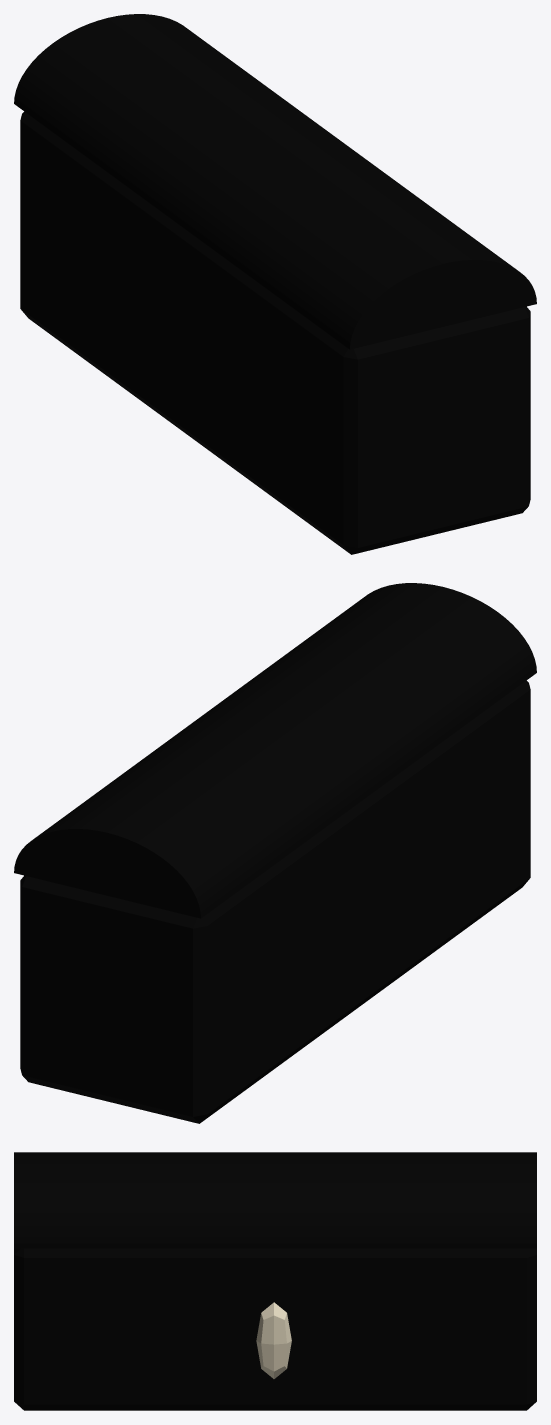
The model's file is blackbox.glb.
3 renders of one model, top to bottom at view 1: azimuth 30°, elevation 25°; view 2: azimuth 150°, elevation 25°; view 3: azimuth 270°, elevation 25°, orthographic. The views are drawn at different scales.
Parts seen in each view (by area): view 1: Cube, Cube.001; view 2: Cube, Cube.001; view 3: Cube, Cube.001, Cube.002.
Boxes of the visible parts, bbox=[...] form: Cube: bbox=[20, 111, 530, 554]; Cube.001: bbox=[14, 14, 536, 349]; Cube: bbox=[20, 680, 530, 1123]; Cube.001: bbox=[14, 583, 536, 918]; Cube: bbox=[14, 1248, 536, 1410]; Cube.001: bbox=[14, 1152, 536, 1248]; Cube.002: bbox=[256, 1302, 291, 1378].
Size of the model in its own units: 1.58 by 2.05 by 4.53.
